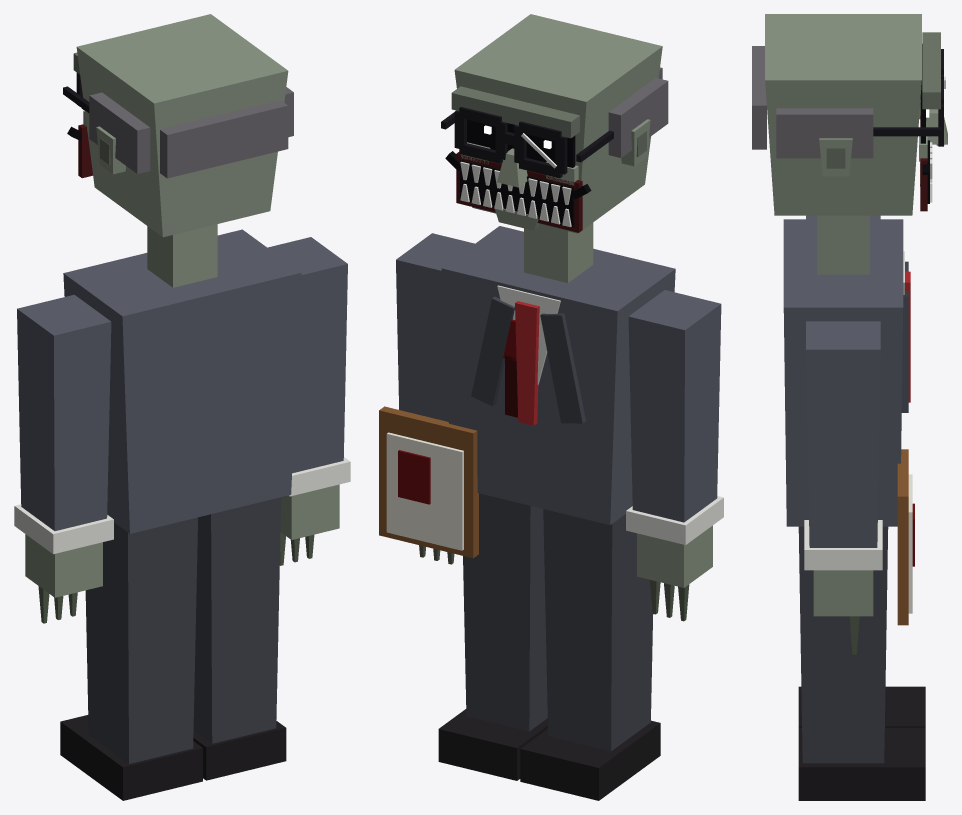
The model's file is manager_night.glb.
3 renders of one model, left to right at view 1: azimuth 30°, elevation 25°; view 2: azimuth 150°, elevation 25°; view 3: azimuth 270°, elevation 25°, orthographic. The views are drawn at different scales.
Parts seen in each view (by area): view 1: Torso, Head, LegL, ArmL, LegR, ArmR, NeckMesh; view 2: Torso, Head, LegL, ArmL, ArmR, LegR, NeckMesh; view 3: Head, ArmR, LegR, Torso, NeckMesh, LegL.
Part boxes in pixels (x1,y1,x2,y2): Torso: (63, 229, 301, 533); Head: (63, 14, 293, 237); LegL: (60, 517, 202, 800); ArmL: (14, 294, 113, 623); LegR: (193, 497, 286, 780); ArmR: (267, 237, 350, 565); NeckMesh: (147, 224, 217, 287); Torso: (441, 226, 675, 524); Head: (441, 14, 668, 233); LegL: (520, 509, 660, 800); ArmL: (626, 290, 723, 621); ArmR: (379, 233, 478, 564); LegR: (438, 493, 547, 780); NeckMesh: (524, 222, 593, 282); Head: (752, 14, 947, 215); ArmR: (804, 321, 914, 654); LegR: (798, 526, 925, 800); Torso: (783, 219, 910, 526); NeckMesh: (817, 215, 869, 274); LegL: (798, 686, 925, 727).
Size of the model in its own units: 0.935 by 2.11 by 0.525.
